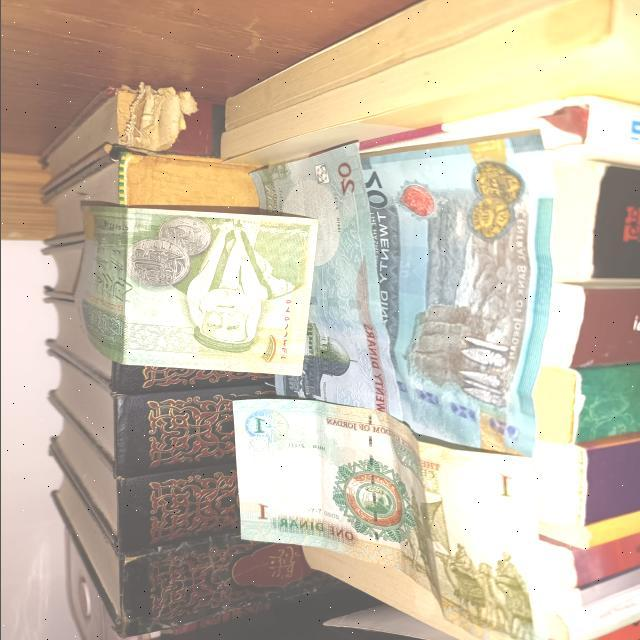1-dinar: (226, 394, 540, 640), (78, 200, 318, 377)
20-dinar: (357, 128, 550, 454), (244, 139, 408, 455)
